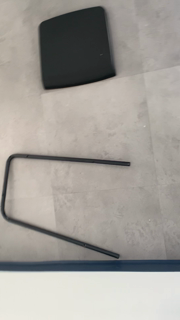Seat: (34, 7, 121, 93)
U pipe: (2, 151, 134, 260)
